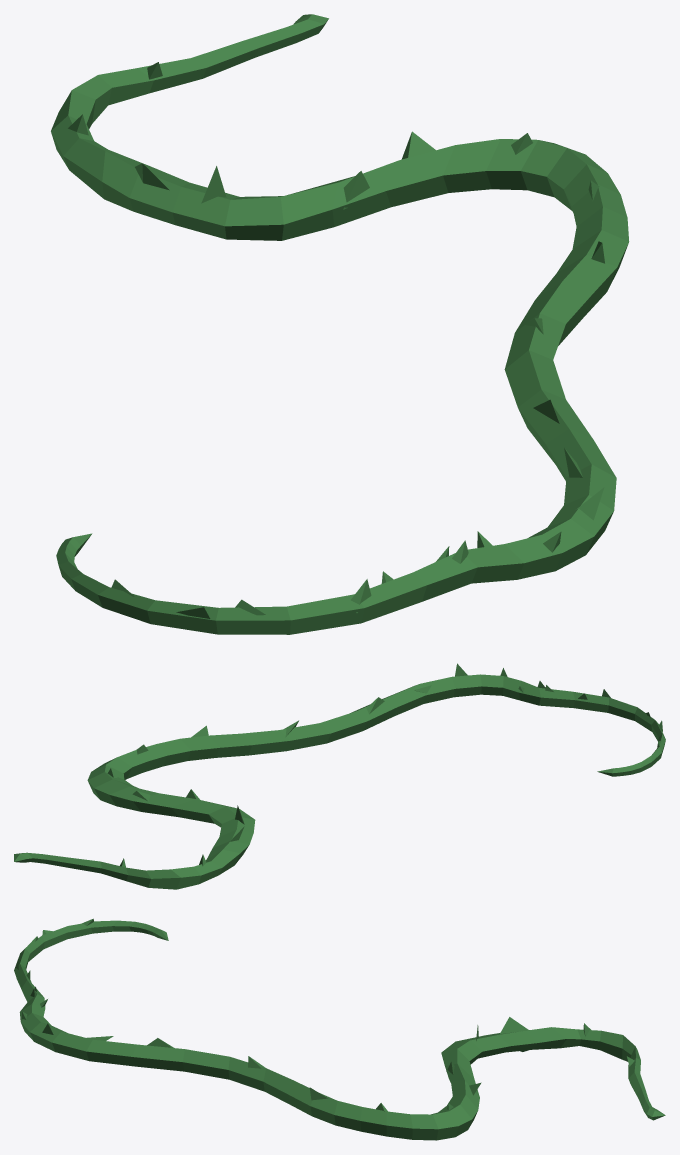
The model's file is vine 1.fbx.
The picture shows the model from 3 angles, top to bottom: view 1: azimuth 30°, elevation 25°; view 2: azimuth 150°, elevation 25°; view 3: azimuth 270°, elevation 25°; orthographic projection. The views are drawn at different scales.
Parts seen in each view (by area): view 1: polySurface157; view 2: polySurface157; view 3: polySurface157.
Boxes of the visible parts, x1,y1,x2,y2 form: polySurface157: (51, 14, 629, 634); polySurface157: (14, 663, 665, 889); polySurface157: (14, 918, 665, 1140).
Size of the model in its own units: 18.61 by 1.52 by 24.67.
